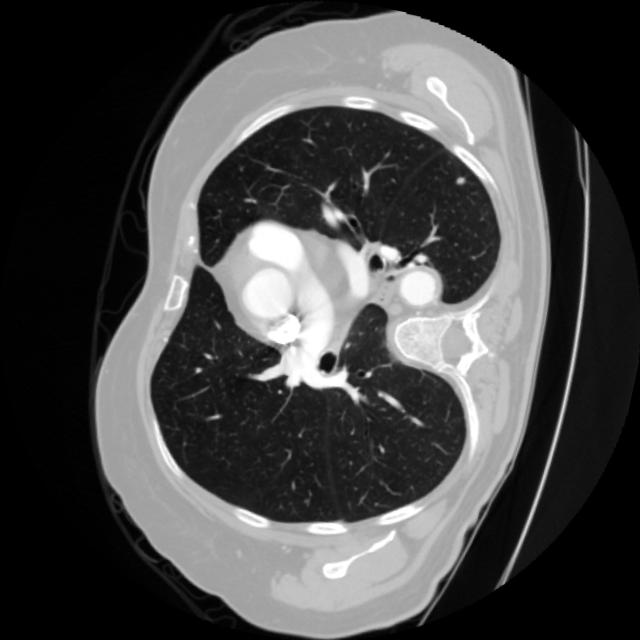nodule: (445, 168, 471, 194)
